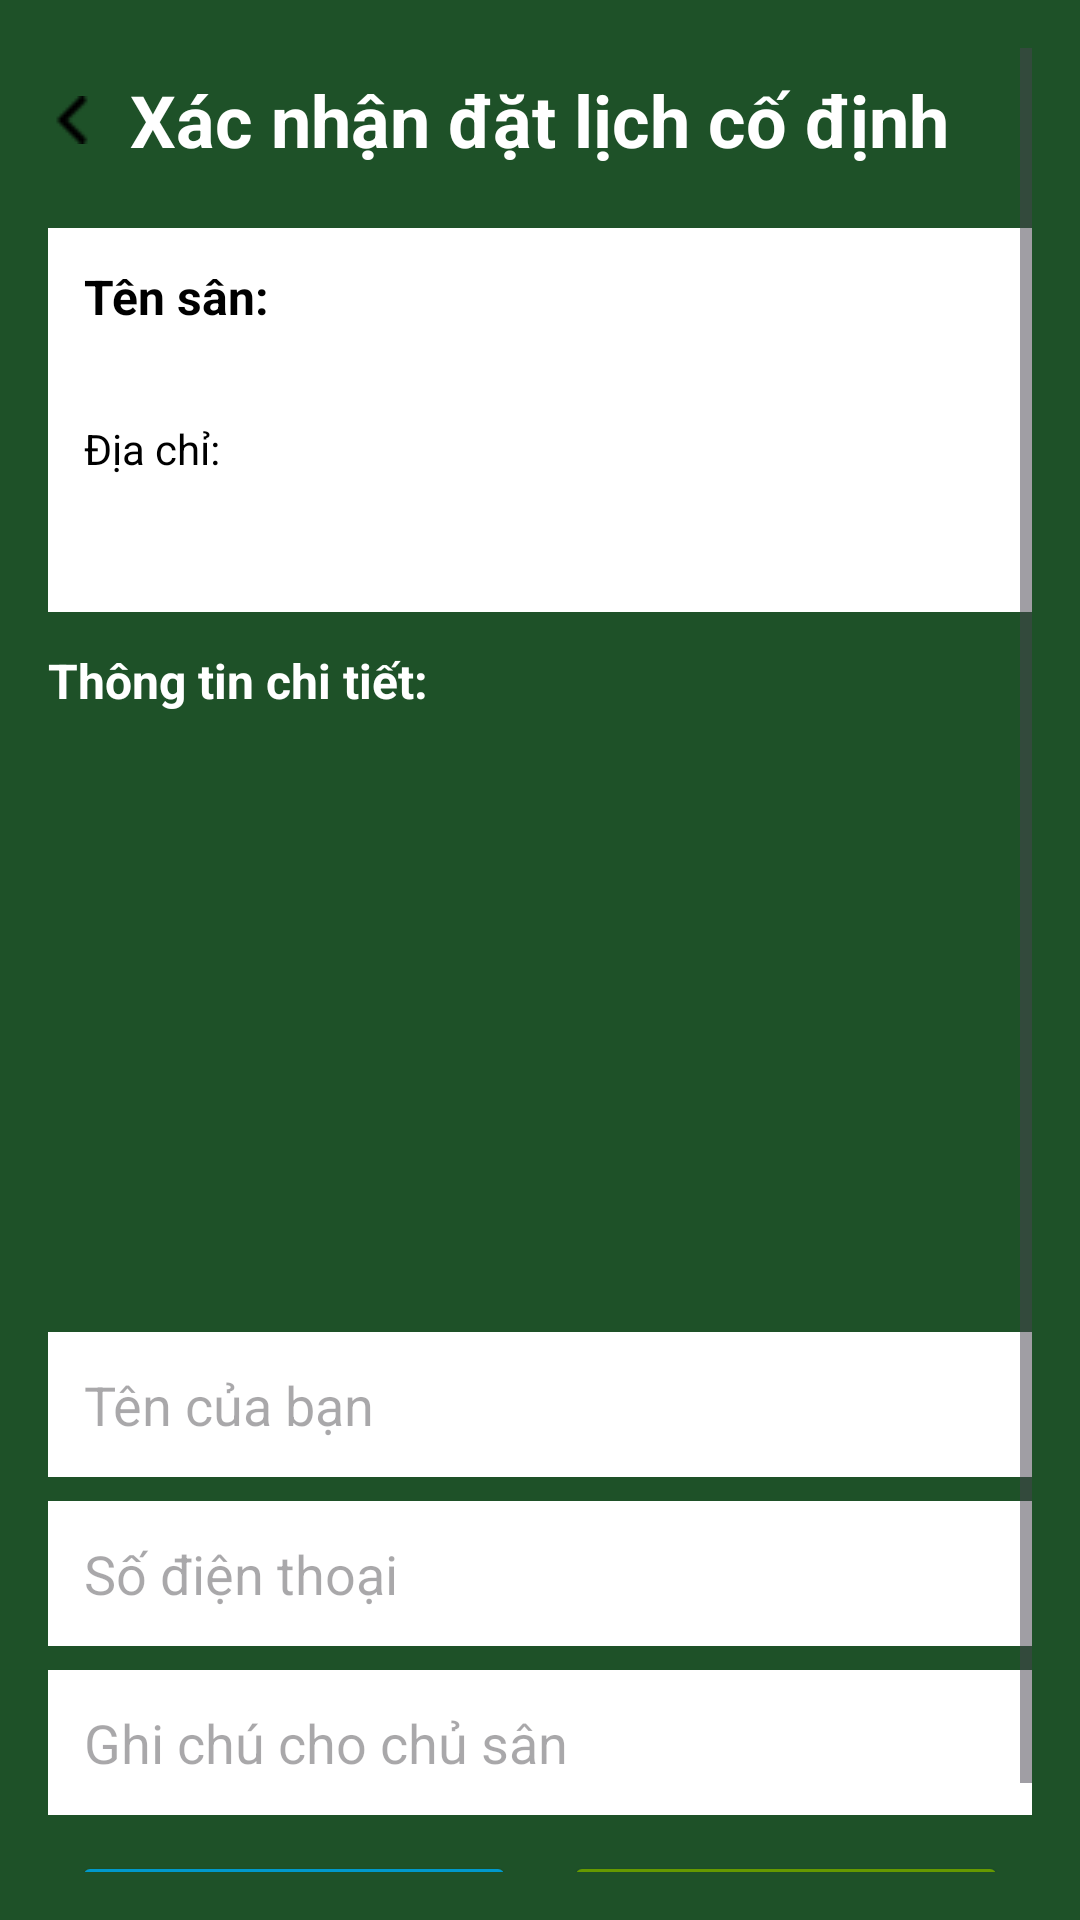

Named icons in this screenshot (1080w x 1920h) and their centers, [x,y]:
Quay lại: [72,120]
